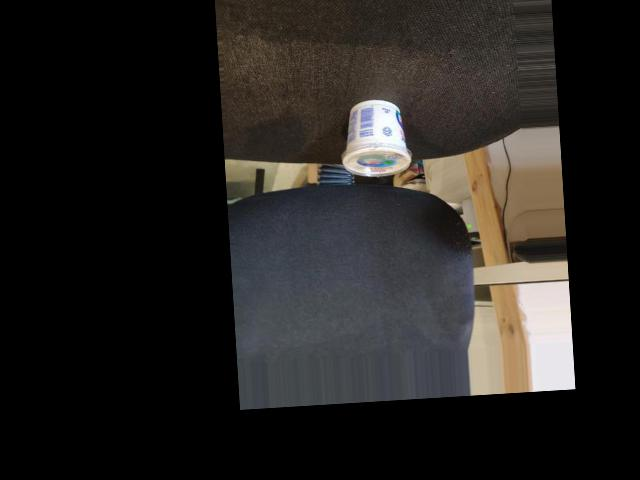cotage: (340, 90, 410, 181)
